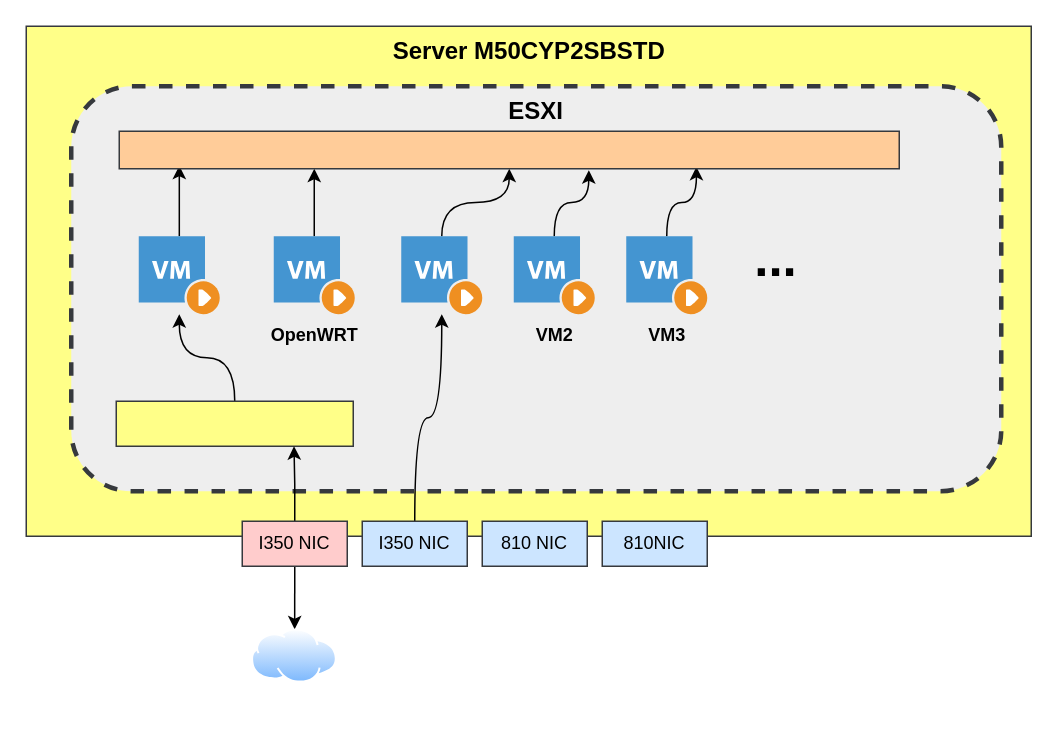
The diagram is 1058 pixels wide and 753 high, and some of its shapes have lost their labels. The shapes that lost their labels are listed below. From the top down, each one's centre as x and y in pixels, then its label:
(x=508, y=149): OpenWRT LAN Switch 10.0.0.1/24
(x=178, y=275): CRE-Realy
(x=441, y=275): VM1
(x=234, y=423): ESXI Virtual Switch
(x=294, y=655): Intel Lab Network
